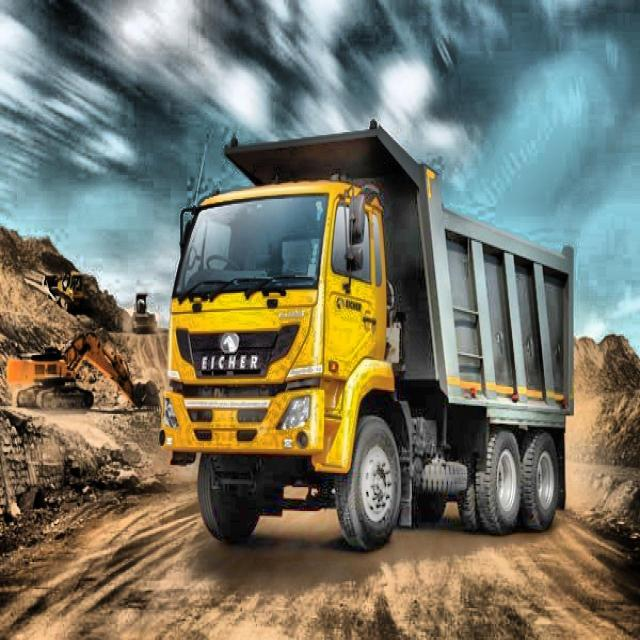dump_truck: (155, 118, 577, 550)
